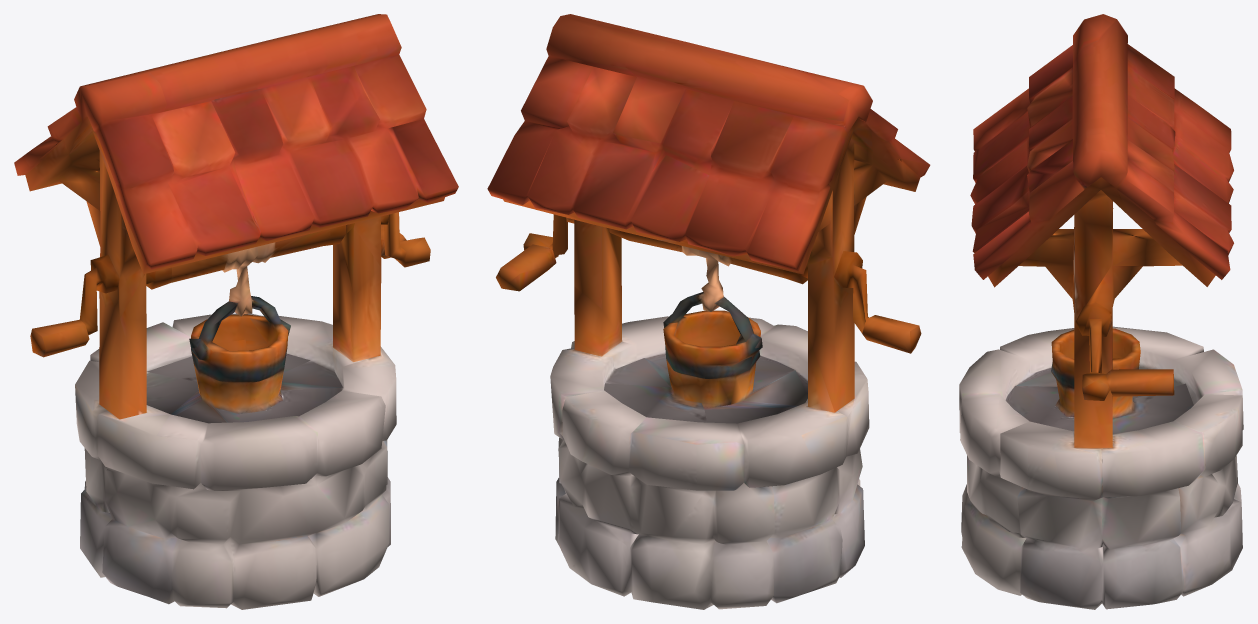
File: wishingwell.glb
The picture shows the model from 3 angles, left to right: view 1: azimuth 30°, elevation 25°; view 2: azimuth 150°, elevation 25°; view 3: azimuth 270°, elevation 25°; orthographic projection. The views are drawn at different scales.
Parts seen in each view (by area): view 1: model; view 2: model; view 3: model.
Boxes of the visible parts, x1=… form: model: x1=14, y1=14, x2=458, y2=609; model: x1=487, y1=14, x2=930, y2=609; model: x1=959, y1=14, x2=1243, y2=609.
Size of the model in its own units: 1.54 by 1.9 by 1.04.
Materials: 1 (1 with a texture image).
